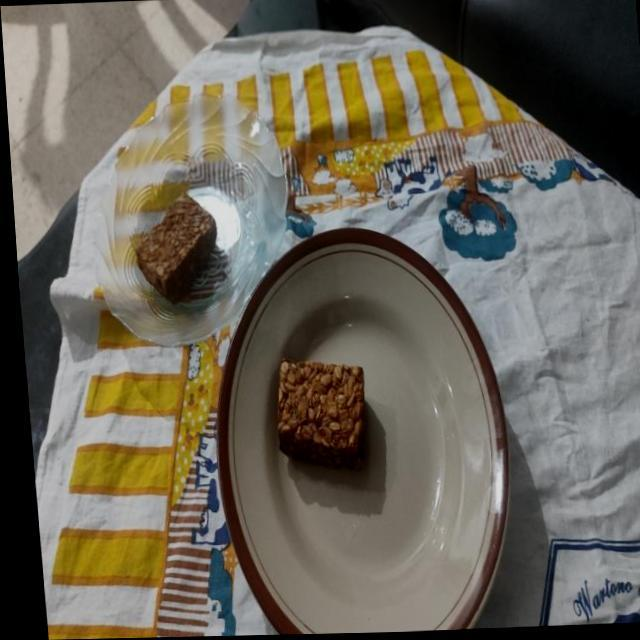tempe_goreng: (277, 358, 363, 468), (135, 192, 216, 302)
